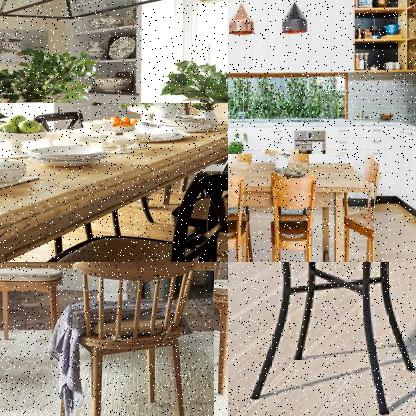table: (0, 103, 227, 261), (0, 262, 214, 415), (228, 262, 415, 415), (228, 154, 375, 261)
